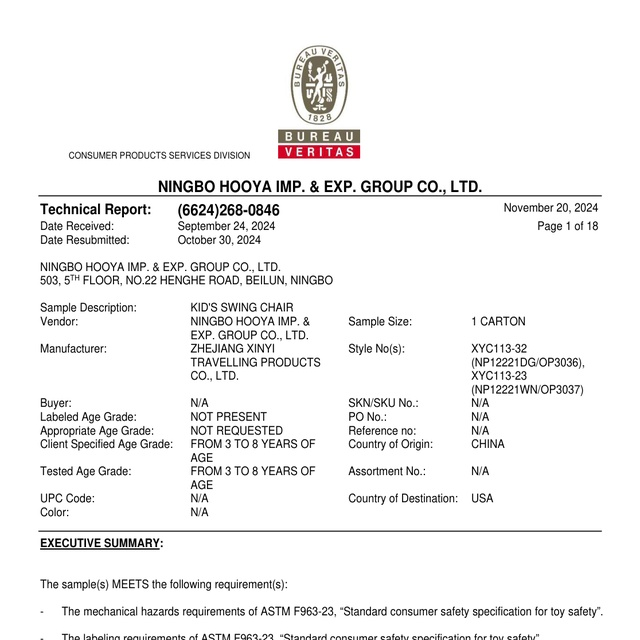bureau_veritas: (277, 43, 362, 163)
